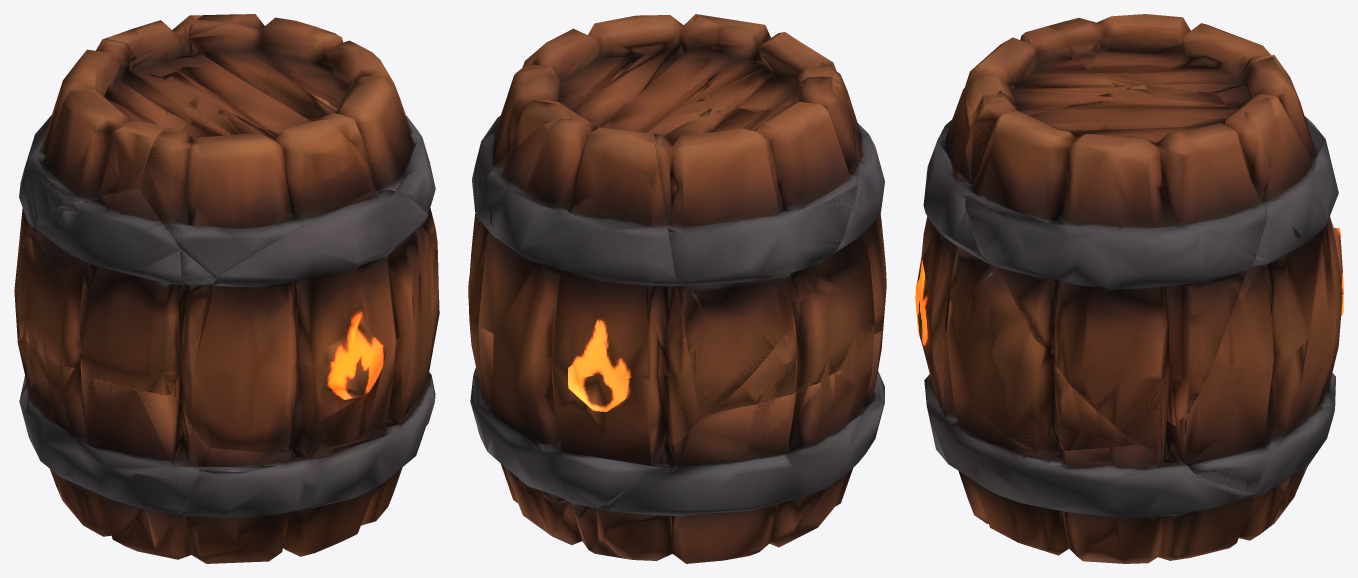
File: fg_barrel-Bm5ejVaB.glb
The picture shows the model from 3 angles, left to right: view 1: azimuth 30°, elevation 25°; view 2: azimuth 150°, elevation 25°; view 3: azimuth 270°, elevation 25°; orthographic projection.
Visible parts, largest first — view 1: frag_6, whole, frag_7, frag_2, frag_4, frag_8, frag_5, frag_0, frag_3, frag_1; view 2: frag_3, frag_0, frag_5, whole, frag_2, frag_7, frag_4, frag_8; view 3: frag_2, frag_3, frag_8, whole, frag_6, frag_0, frag_4.
Part boxes in pixels (box(x1,y1,x2,y2)): frag_6: box(172, 189, 439, 452); whole: box(14, 16, 438, 559); frag_7: box(14, 188, 182, 395); frag_2: box(162, 14, 436, 249); frag_4: box(138, 111, 375, 278); frag_8: box(151, 371, 435, 563); frag_5: box(16, 327, 208, 552); frag_0: box(19, 38, 197, 244); frag_3: box(106, 15, 202, 71); frag_1: box(177, 248, 215, 352); frag_3: box(468, 118, 700, 512); frag_0: box(654, 76, 857, 418); frag_5: box(577, 331, 884, 563); whole: box(468, 14, 886, 555); frag_2: box(471, 14, 720, 260); frag_7: box(714, 132, 886, 412); frag_4: box(708, 24, 868, 135); frag_8: box(478, 429, 625, 558); frag_2: box(965, 88, 1275, 450); frag_3: box(1162, 56, 1343, 493); frag_8: box(924, 374, 1304, 563); whole: box(924, 19, 1331, 518); frag_6: box(915, 141, 1136, 450); frag_0: box(1047, 14, 1275, 92); frag_4: box(937, 26, 1125, 184).
Size of the model in its own units: 1.73 by 1.9 by 1.75.
1 material, 1 textured.
